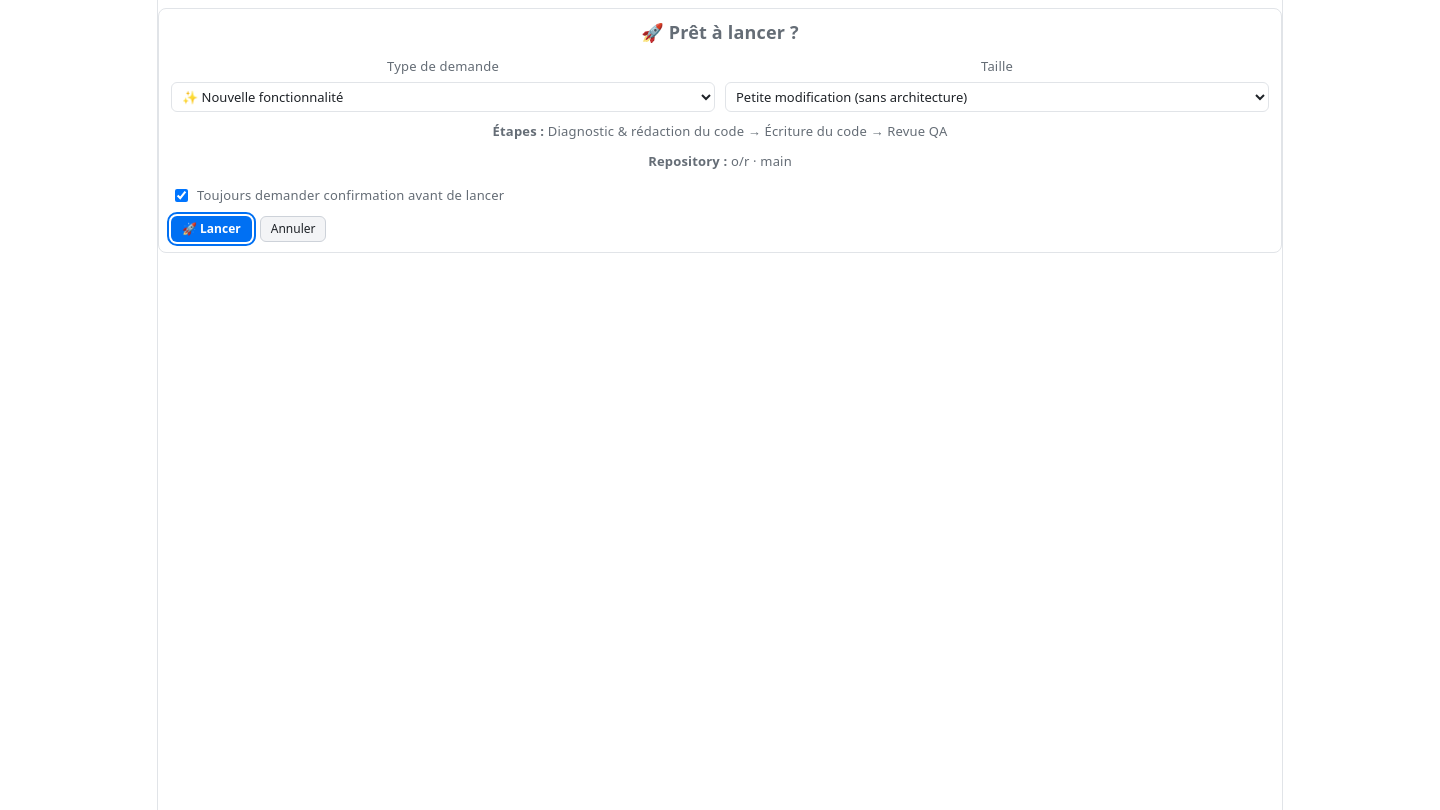
Test case: LaunchPreview › ajoute l’architecture aux étapes quand la taille passe à « complète »
The width and height of the screenshot is (1440, 810).
Select "Fonctionnalité complète (avec architecture)" in the dropdown labelled "Taille" at x=997, y=97, box top-left (725, 82), bottom-right (1269, 112)
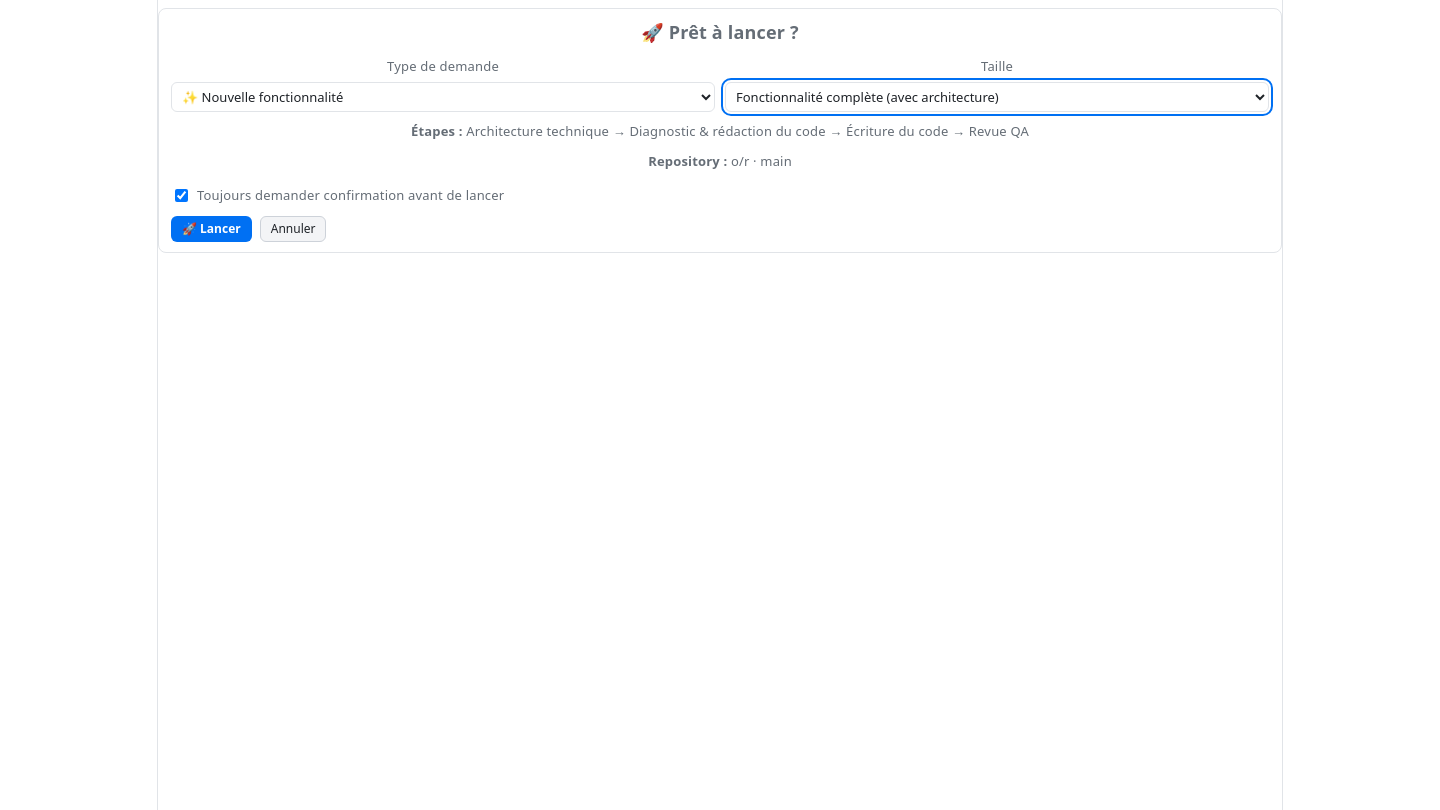
Expected: the text "Architecture technique → Diagnostic" is shown, top-left (466, 122), bottom-right (1029, 140)
